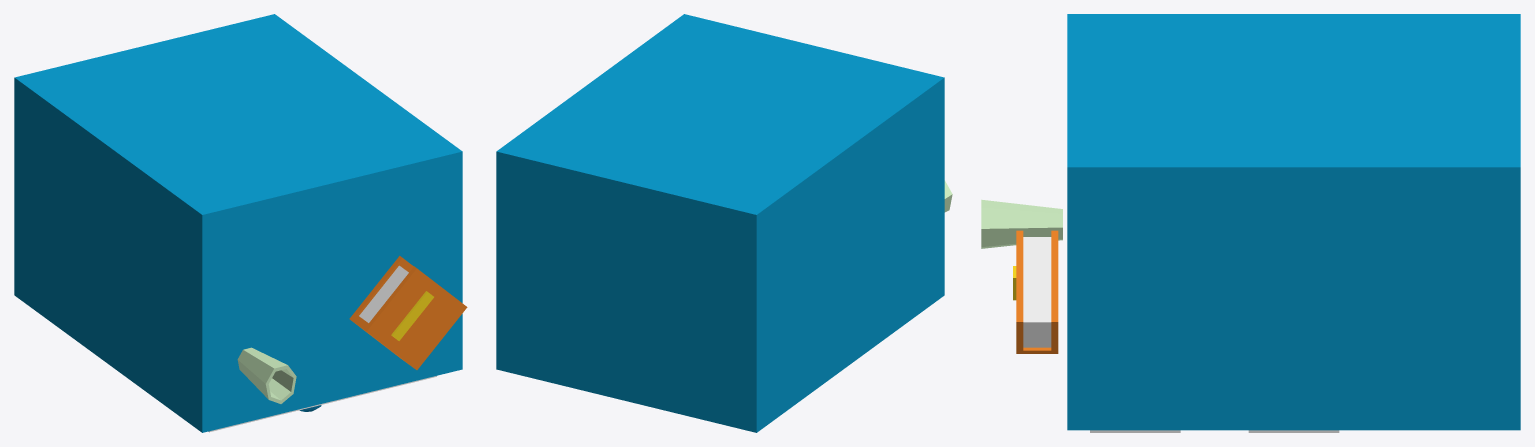
Rendered from tinker.obj.
3 views of the same model, side by side, from view 1: azimuth 30°, elevation 25°; view 2: azimuth 150°, elevation 25°; view 3: azimuth 270°, elevation 25° (orthographic). The views are drawn at different scales.
Parts seen in each view (by area): view 1: group_0_40919, group_0_16089887, group_0_13891014, group_0_16448250, group_0_16768282; view 2: group_0_40919; view 3: group_0_40919, group_0_16448250, group_0_13891014, group_0_16089887.
Part boxes in pixels (bbox=[...]): group_0_40919: bbox=[14, 14, 462, 432]; group_0_16089887: bbox=[349, 256, 467, 369]; group_0_13891014: bbox=[237, 347, 296, 403]; group_0_16448250: bbox=[208, 265, 436, 432]; group_0_16768282: bbox=[391, 291, 433, 340]; group_0_40919: bbox=[496, 14, 944, 432]; group_0_40919: bbox=[1067, 14, 1520, 430]; group_0_16448250: bbox=[1023, 237, 1339, 432]; group_0_13891014: bbox=[981, 199, 1062, 248]; group_0_16089887: bbox=[1016, 230, 1058, 353].
Bounding box in the file's own units: 80 × 72 × 119.
